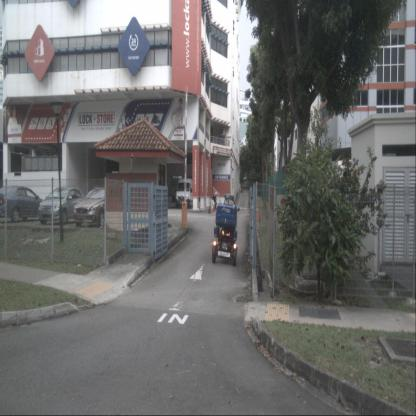movable_object-trafficcone: (208, 203, 211, 214), (211, 202, 214, 213), (216, 202, 219, 211)
vehicle-car: (73, 186, 123, 229), (0, 184, 51, 224), (38, 186, 86, 226), (176, 178, 198, 209)
vehicle-motorcycle: (212, 193, 238, 266), (212, 192, 217, 209)
